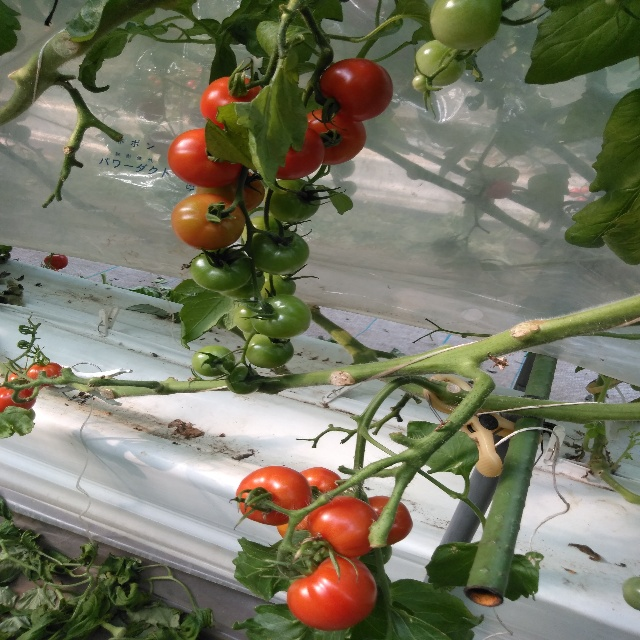l_fully_ripened: (286, 555, 377, 631), (320, 57, 394, 121), (307, 496, 382, 558), (167, 128, 243, 189), (236, 465, 312, 526), (307, 108, 367, 165), (200, 77, 261, 129), (361, 495, 413, 546), (276, 128, 326, 180), (299, 466, 344, 503), (0, 381, 37, 412), (26, 362, 63, 387), (44, 254, 69, 270)
l_green: (429, 0, 503, 50), (247, 229, 310, 275), (190, 248, 254, 292), (263, 179, 322, 224), (251, 294, 311, 338), (414, 40, 466, 86), (244, 334, 295, 368), (217, 266, 265, 299), (241, 215, 290, 244), (192, 346, 236, 377), (257, 271, 296, 300), (224, 365, 261, 395), (233, 300, 260, 334), (623, 576, 640, 611), (411, 75, 432, 92)
l_half_ripened: (171, 193, 246, 251), (195, 170, 265, 215)
